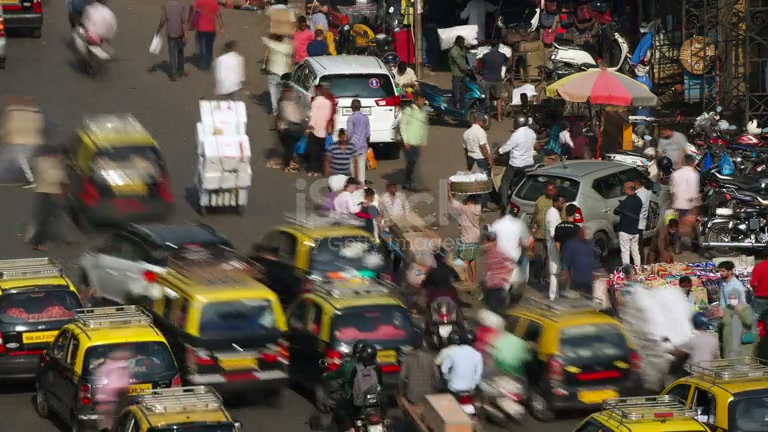car: (146, 243, 293, 404), (284, 269, 424, 422), (32, 306, 184, 430), (498, 305, 646, 422), (506, 157, 664, 262), (77, 220, 238, 311), (65, 113, 178, 237), (289, 54, 403, 160), (249, 220, 389, 303), (0, 259, 88, 388), (659, 358, 767, 430), (113, 384, 244, 431), (571, 395, 711, 431), (0, 1, 44, 38), (0, 11, 8, 68)
motorcycle: (284, 269, 424, 420), (497, 303, 647, 423), (65, 112, 179, 236), (309, 339, 392, 431), (67, 7, 117, 77), (425, 294, 472, 350)
pedestrian: (22, 144, 77, 247), (497, 113, 537, 210), (477, 229, 517, 316), (397, 92, 430, 190), (669, 152, 702, 250), (558, 224, 600, 298), (305, 82, 336, 176), (612, 177, 644, 267), (156, 2, 192, 81), (189, 0, 227, 71), (345, 97, 371, 185), (463, 113, 494, 174)
